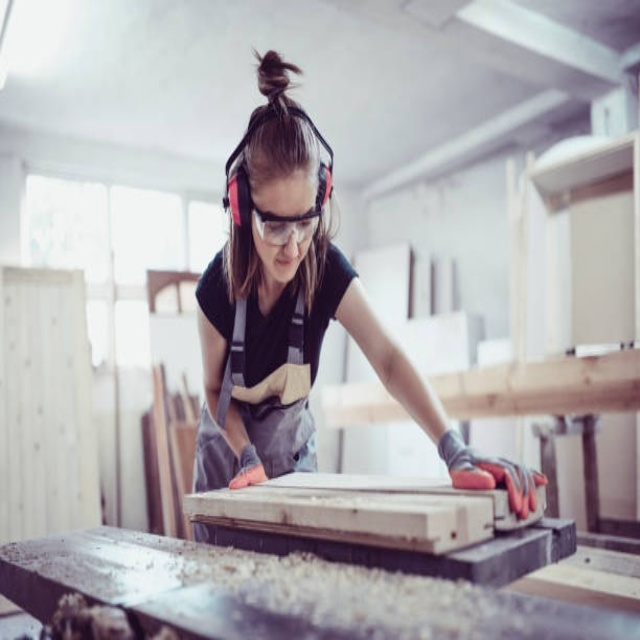Gafas: (245, 175, 324, 247)
Guantes: (439, 429, 544, 519), (229, 444, 268, 489)
Sin_mascara: (270, 251, 298, 282)
